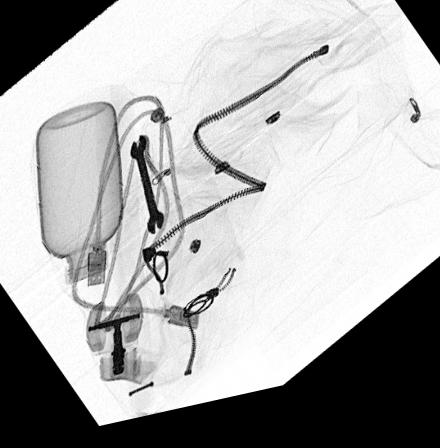Wrench: (129, 141, 164, 245)
